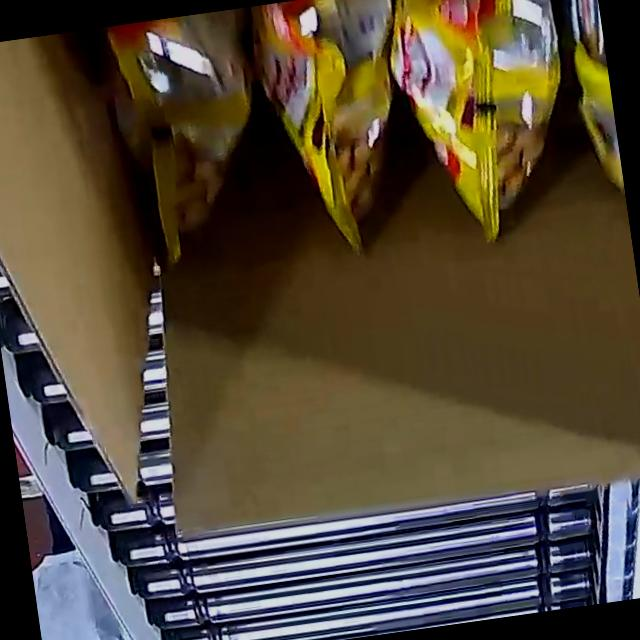salted: (95, 0, 629, 293)
